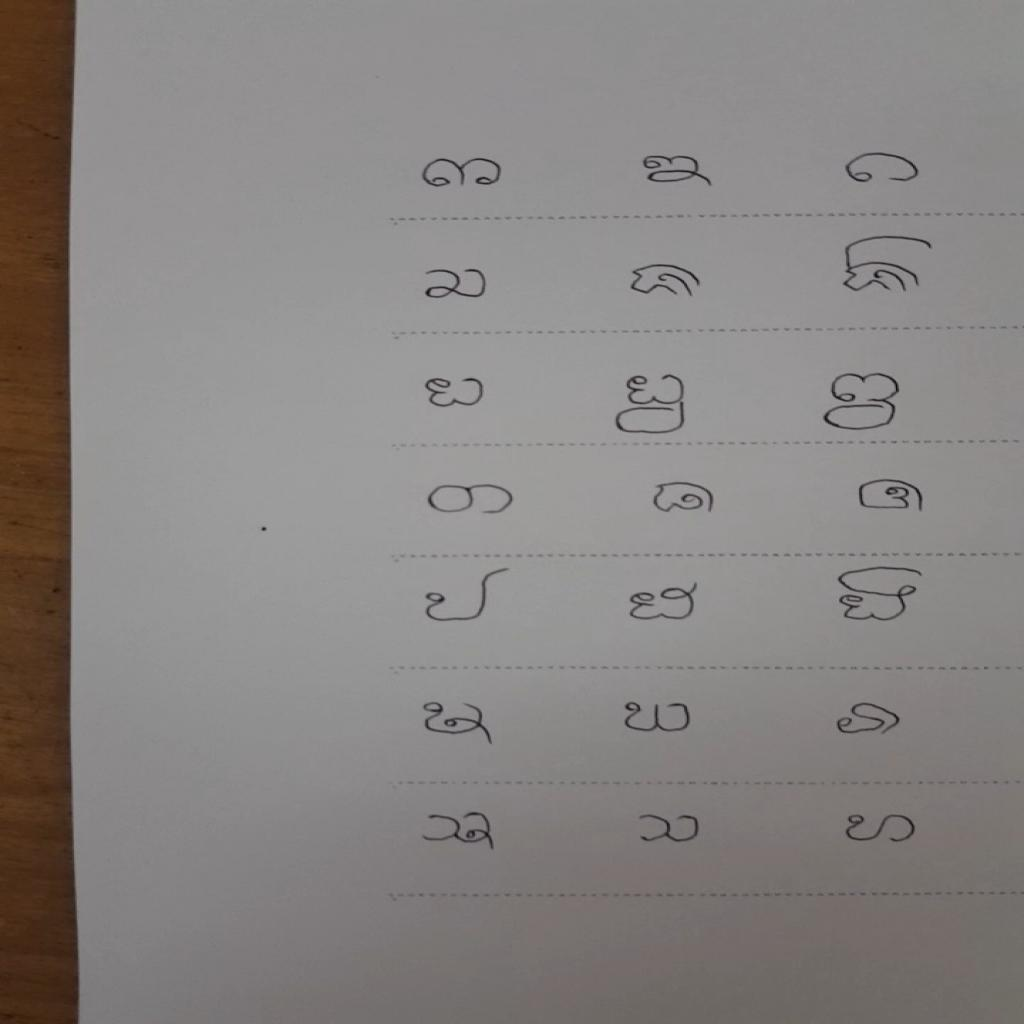LN001: (410, 152, 515, 196)
LN002: (631, 148, 725, 194)
LN003: (839, 148, 927, 189)
LN007: (413, 263, 498, 307)
LN008: (622, 260, 711, 304)
LN009: (833, 231, 942, 299)
LN013: (417, 370, 493, 414)
LN014: (607, 370, 697, 440)
LN015: (814, 367, 909, 438)
LN019: (420, 478, 525, 522)
LN020: (645, 477, 724, 520)
LN021: (845, 473, 937, 518)
LN025: (416, 564, 515, 628)
LN026: (621, 578, 708, 628)
LN027: (829, 563, 931, 628)
LN031: (412, 696, 506, 752)
LN032: (615, 696, 700, 740)
LN033: (828, 697, 910, 743)
LN037: (413, 808, 505, 857)
LN038: (629, 808, 709, 850)
LN039: (837, 807, 923, 851)
